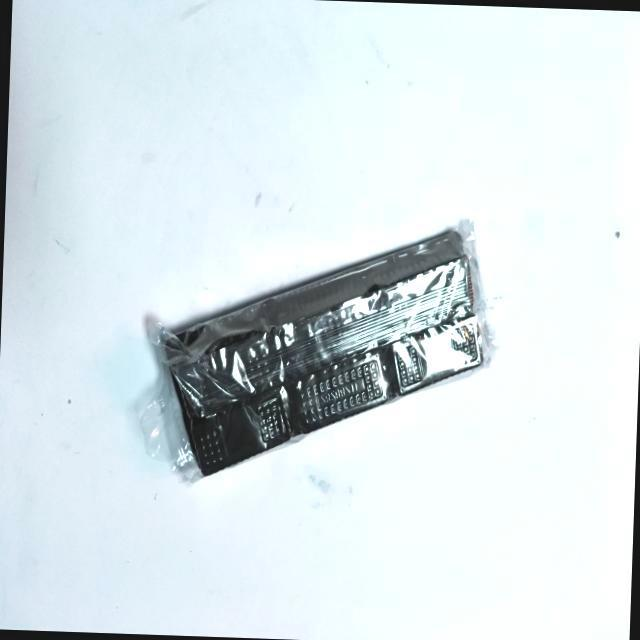plastic: (118, 182, 536, 594)
